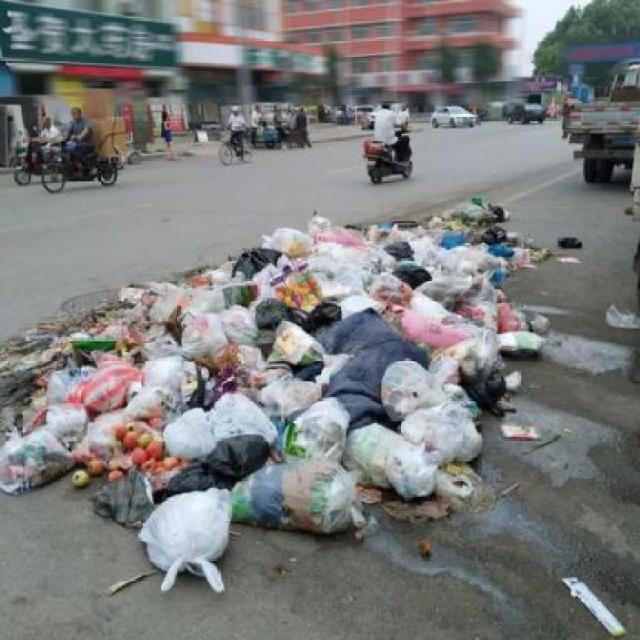garbage: (35, 206, 510, 546)
